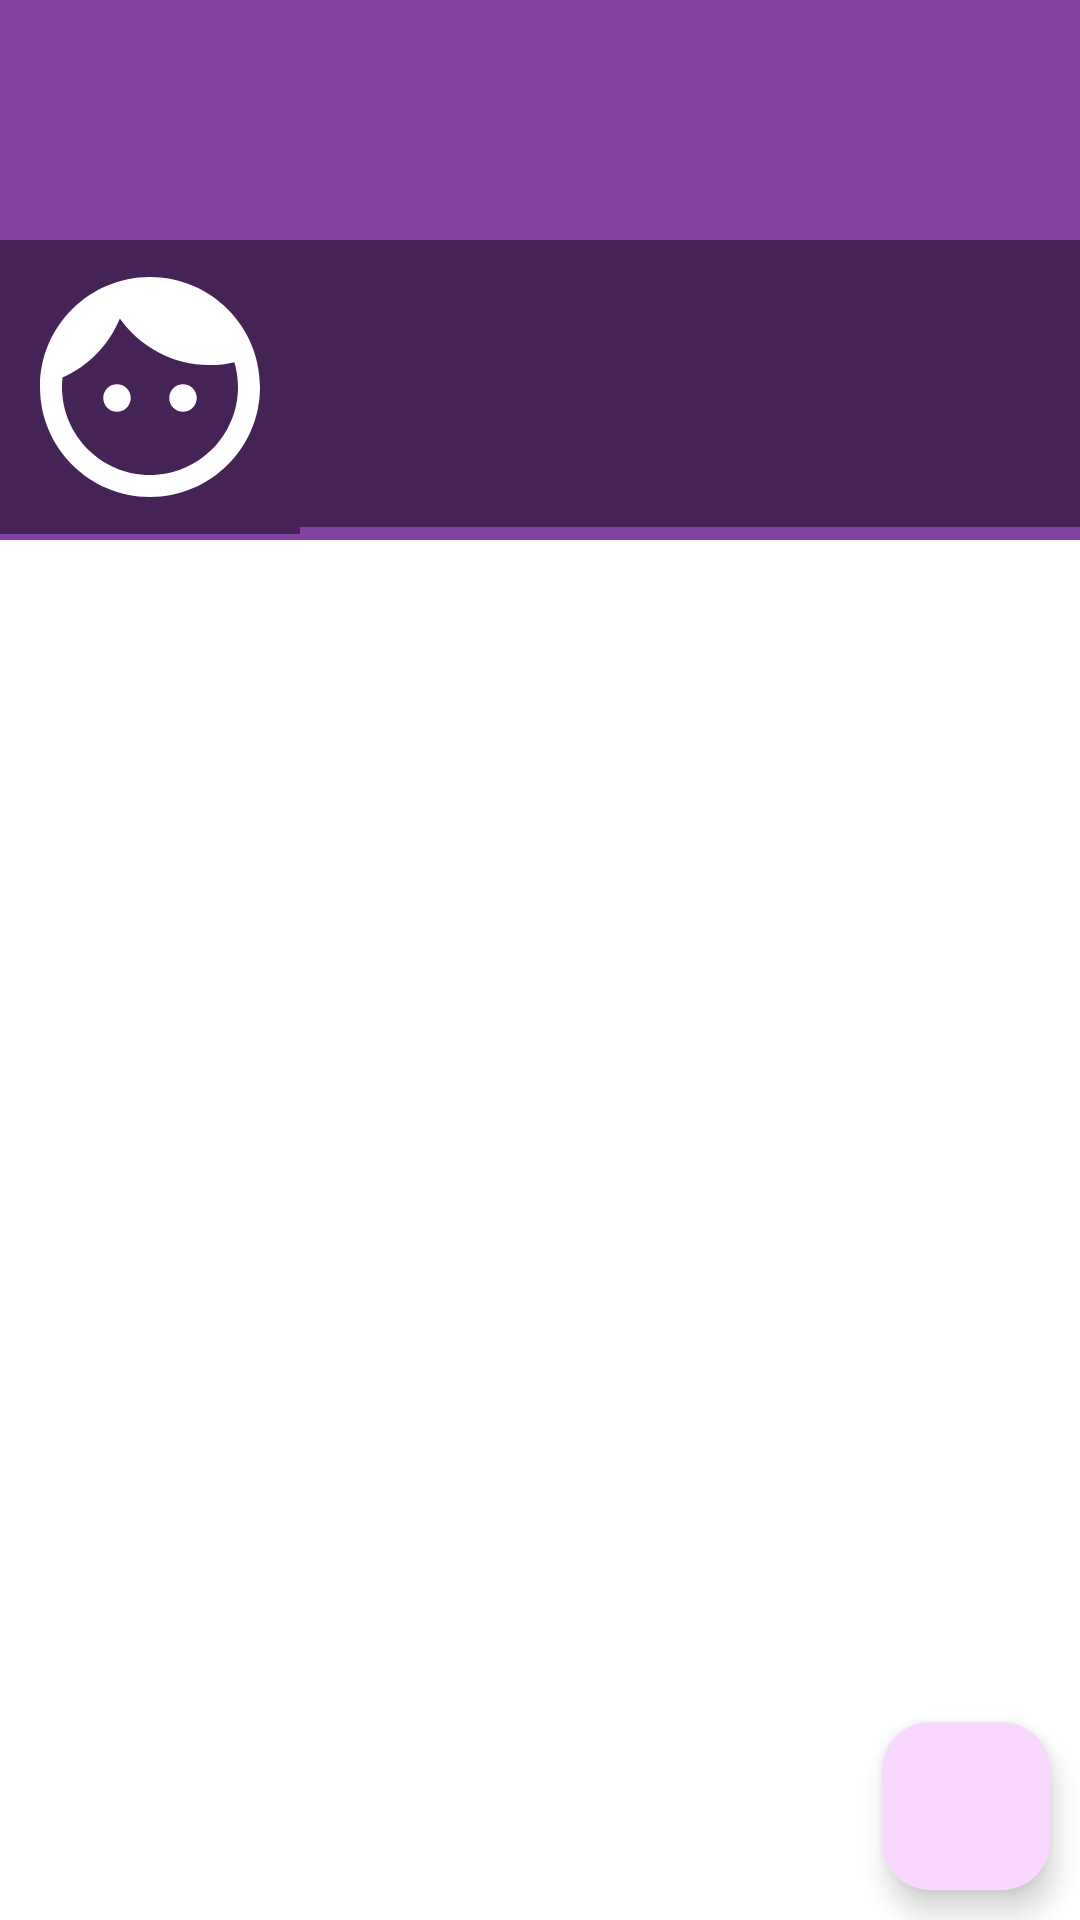

Point at icon controls on the screen. Image size 1080px×1920px, points as point (x, y).
foto perfil: point (150, 387)
